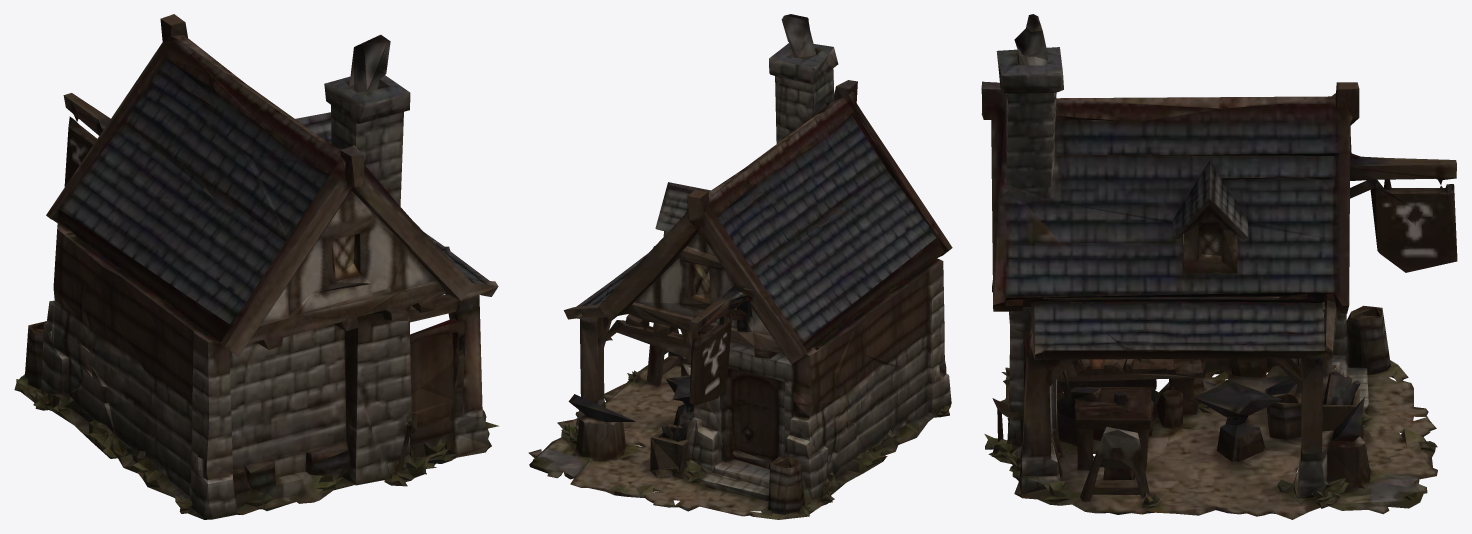
Rendered from war_blacksmith_01.glb.
3 views of the same model, side by side, from view 1: azimuth 30°, elevation 25°; view 2: azimuth 150°, elevation 25°; view 3: azimuth 270°, elevation 25° (orthographic). The views are drawn at different scales.
Parts seen in each view (by area): view 1: geometry_0; view 2: geometry_0; view 3: geometry_0.
Boxes of the visible parts, x1,y1,x2,y2 form: geometry_0: [14, 14, 498, 519]; geometry_0: [528, 14, 952, 519]; geometry_0: [981, 14, 1457, 519].
Bounding box in the file's own units: 0.8344 × 0.9874 × 0.997.
1 material, 1 textured.
